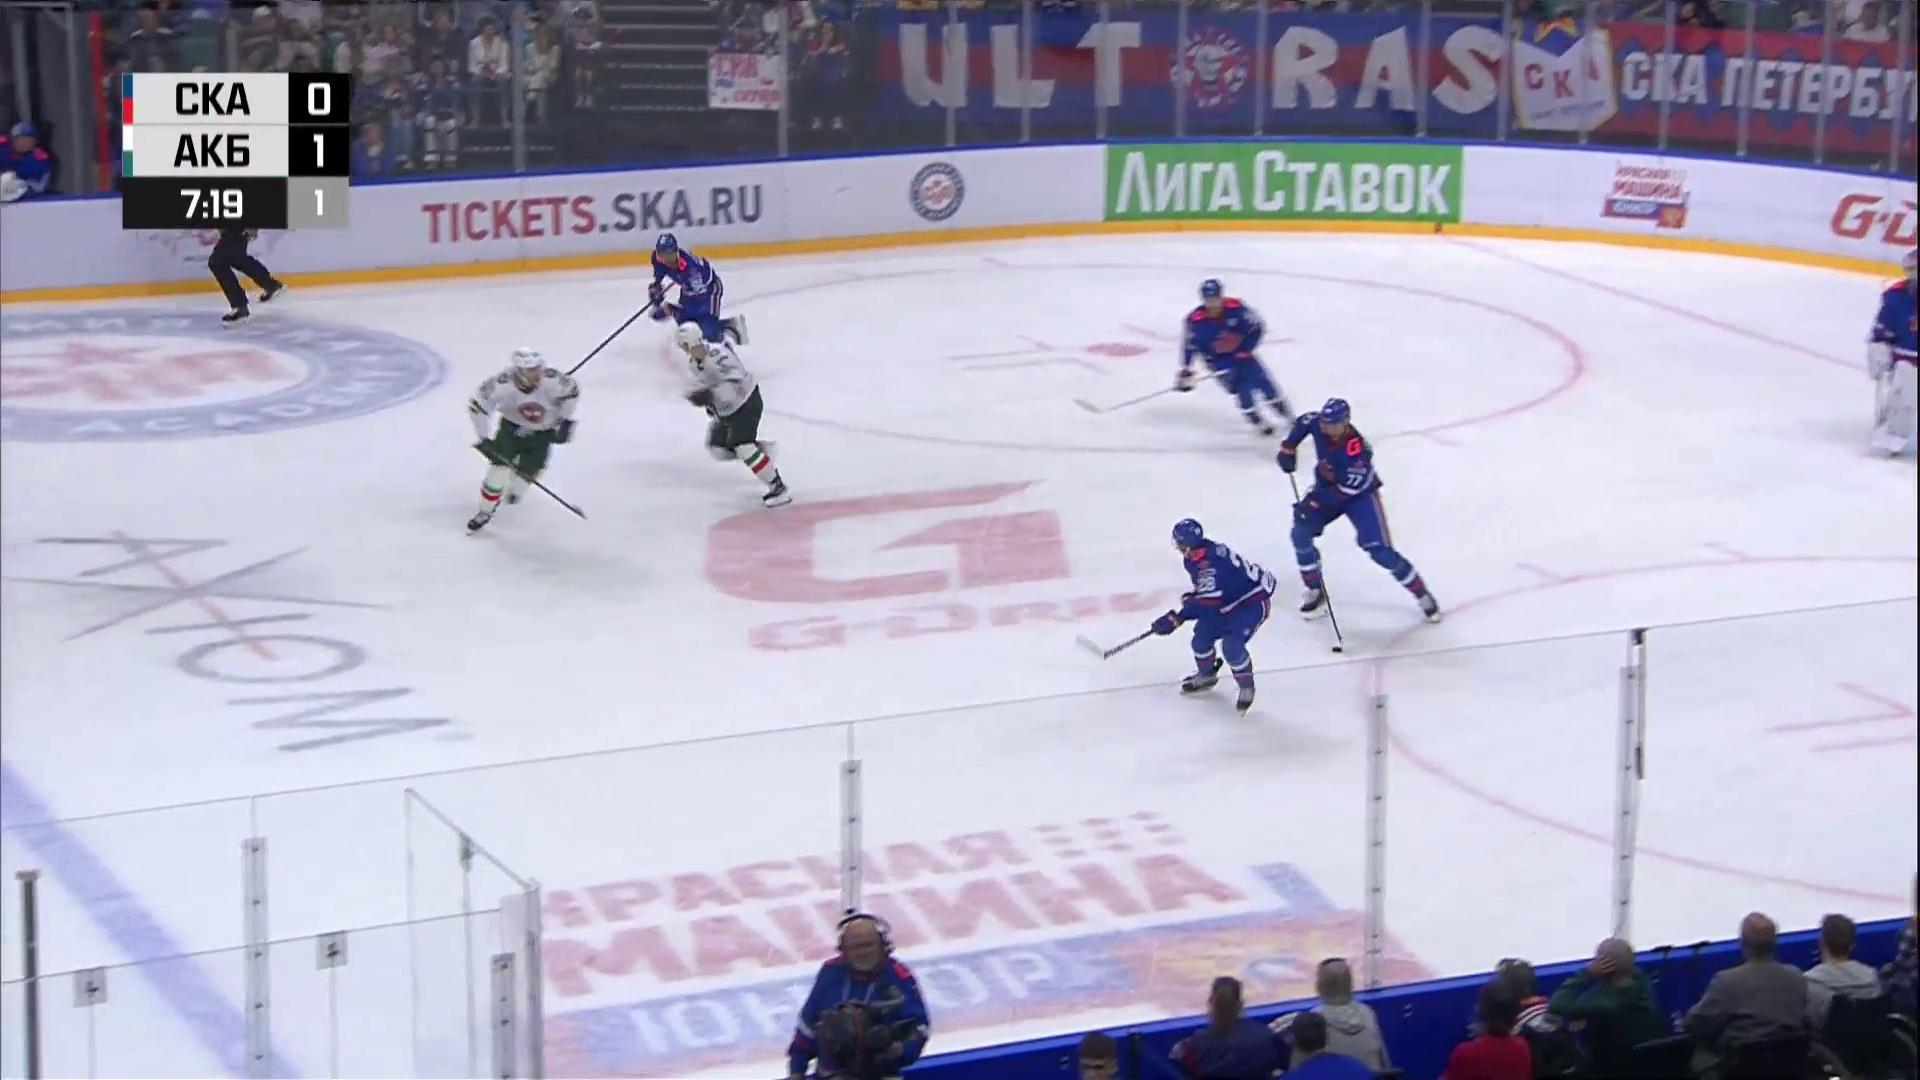ball: (1332, 646, 1344, 653)
